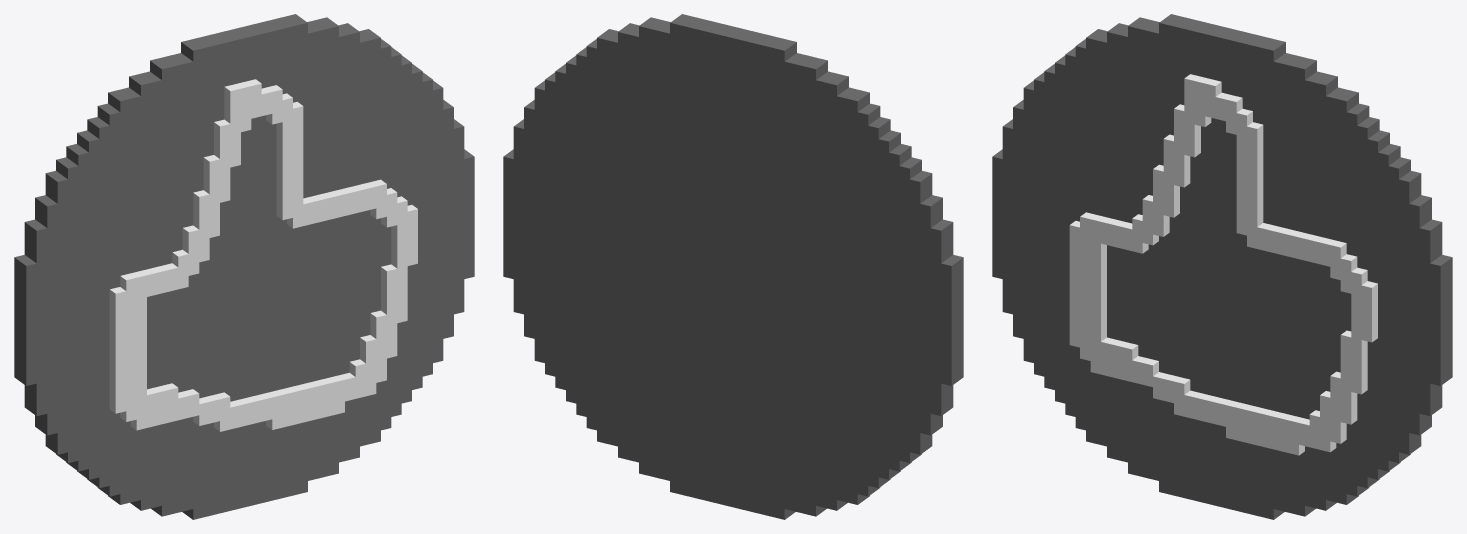
File: like_button.glb
The picture shows the model from 3 angles, left to right: view 1: azimuth 30°, elevation 25°; view 2: azimuth 150°, elevation 25°; view 3: azimuth 330°, elevation 25°; orthographic projection.
Visible parts, largest first — view 1: box_79; view 2: box_79; view 3: box_79.
Boxes of the visible parts, left/top/right/bottom form: box_79: left=14, top=14, right=474, bottom=519; box_79: left=503, top=14, right=963, bottom=519; box_79: left=992, top=14, right=1452, bottom=519.
Size of the model in its own units: 4.3 by 4.3 by 0.3.
1 material, 1 textured.
